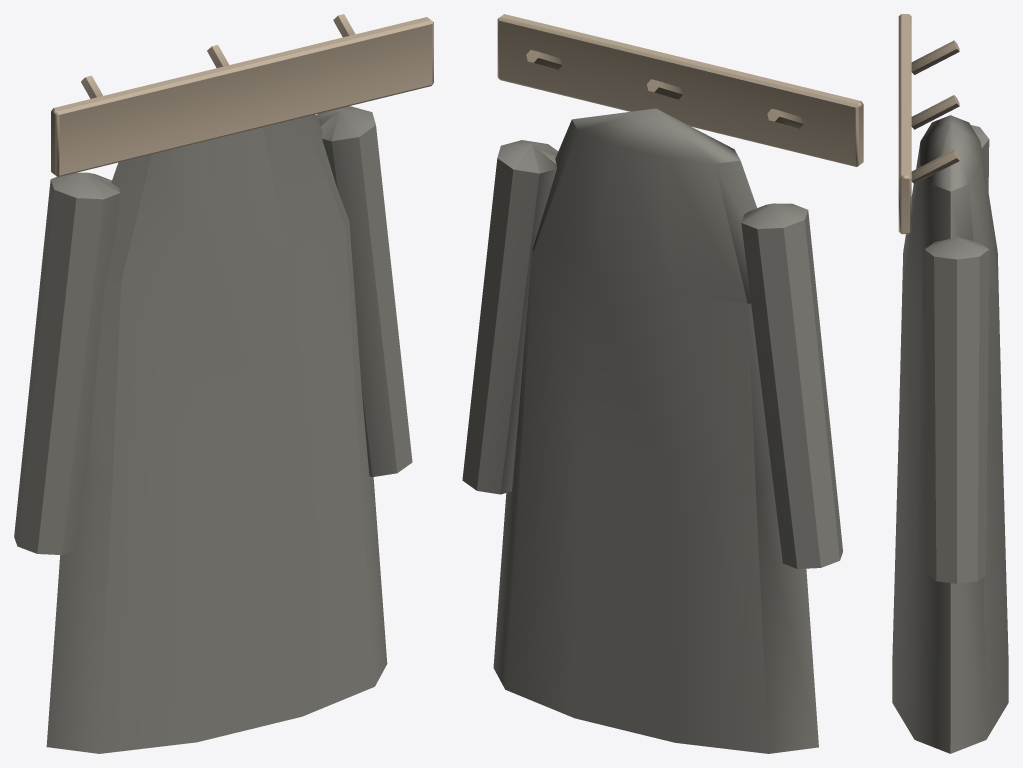
Rendered from coat_hook.glb.
The picture shows the model from 3 angles, left to right: view 1: azimuth 30°, elevation 25°; view 2: azimuth 150°, elevation 25°; view 3: azimuth 270°, elevation 25°; orthographic projection. The views are drawn at different scales.
Parts seen in each view (by area): view 1: static; view 2: static; view 3: static.
Part boxes in pixels (x1,y1,x2,y2): static: (14, 14, 433, 753); static: (462, 14, 863, 753); static: (892, 14, 1008, 753).
Bounding box in the file's own units: 0.621 × 1 × 0.1797.
